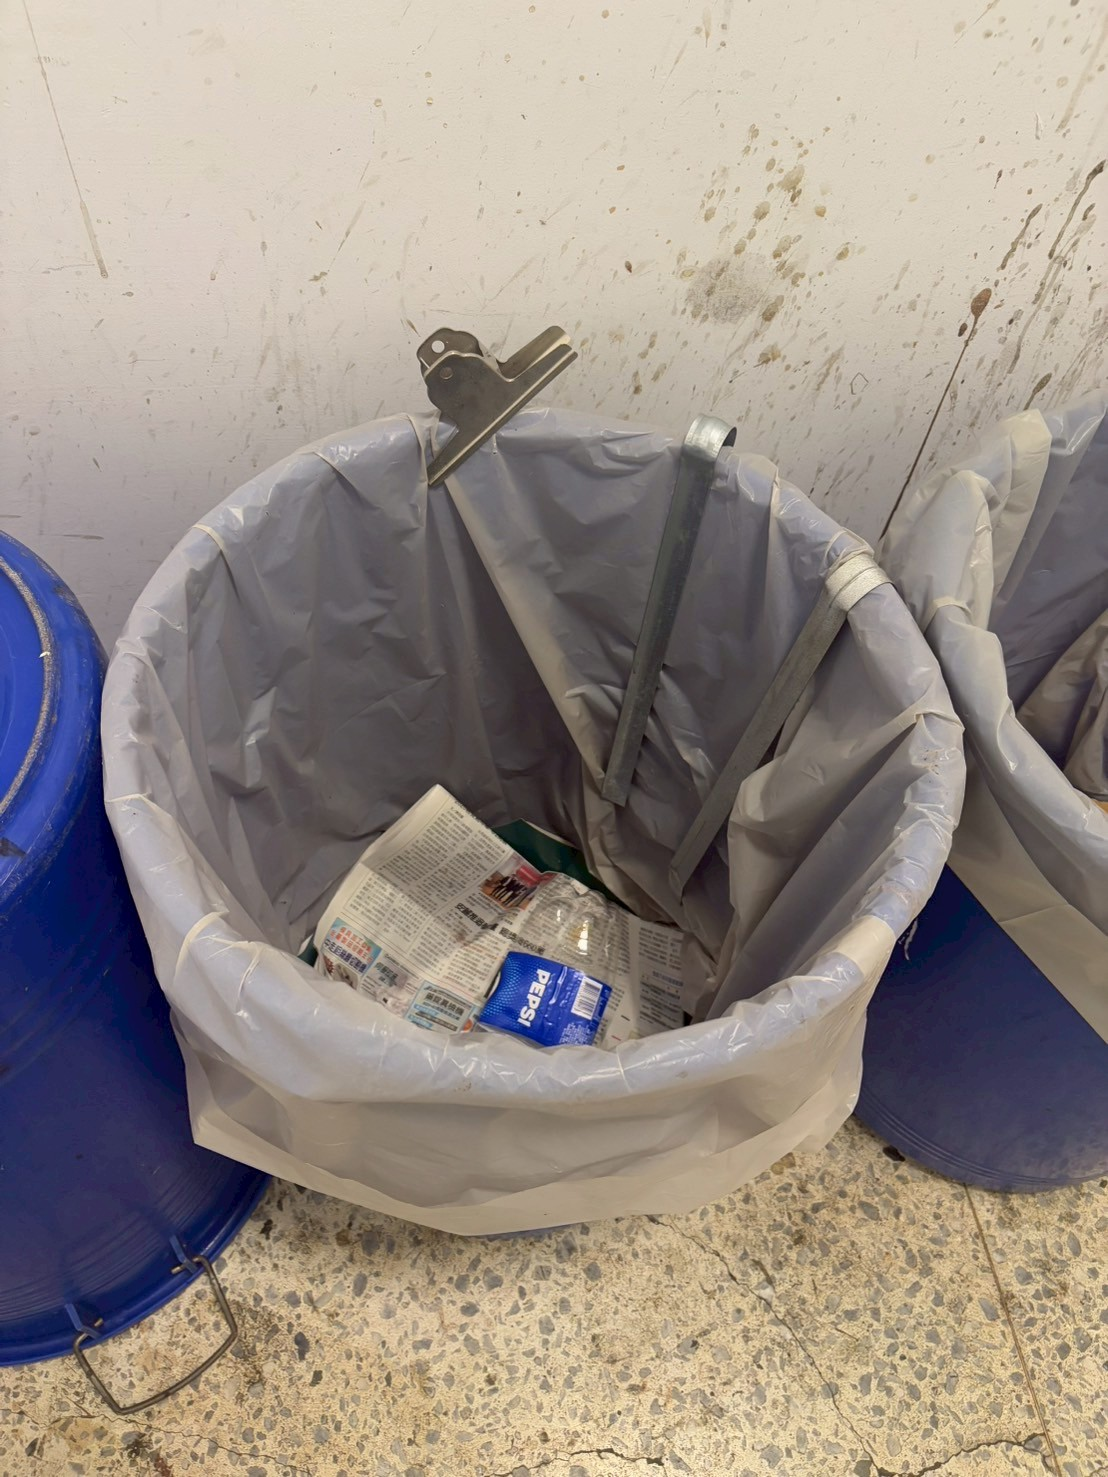normal_bin: (98, 311, 987, 1281)
